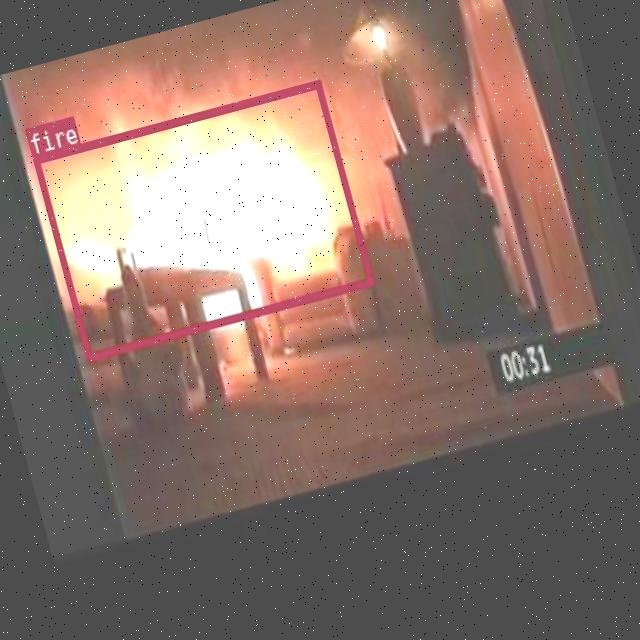fire: (30, 78, 373, 361)
